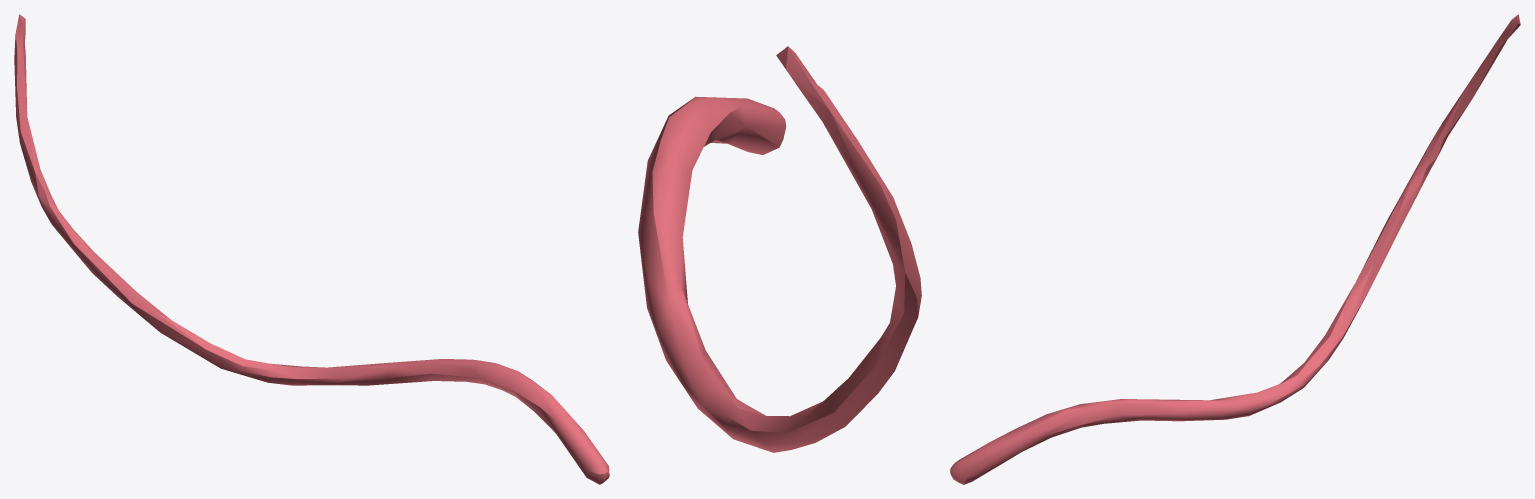
File: fma50519_fj5227.glb
The picture shows the model from 3 angles, left to right: view 1: azimuth 30°, elevation 25°; view 2: azimuth 150°, elevation 25°; view 3: azimuth 270°, elevation 25°; orthographic projection. The views are drawn at different scales.
Parts seen in each view (by area): view 1: FMA50519_FJ5227; view 2: FMA50519_FJ5227; view 3: FMA50519_FJ5227.
Boxes of the visible parts, <box> form: FMA50519_FJ5227: <box>14,14,609,484</box>; FMA50519_FJ5227: <box>638,46,921,452</box>; FMA50519_FJ5227: <box>950,14,1520,484</box>.
Size of the model in its own units: 0.014 by 0.0134 by 0.0212.
